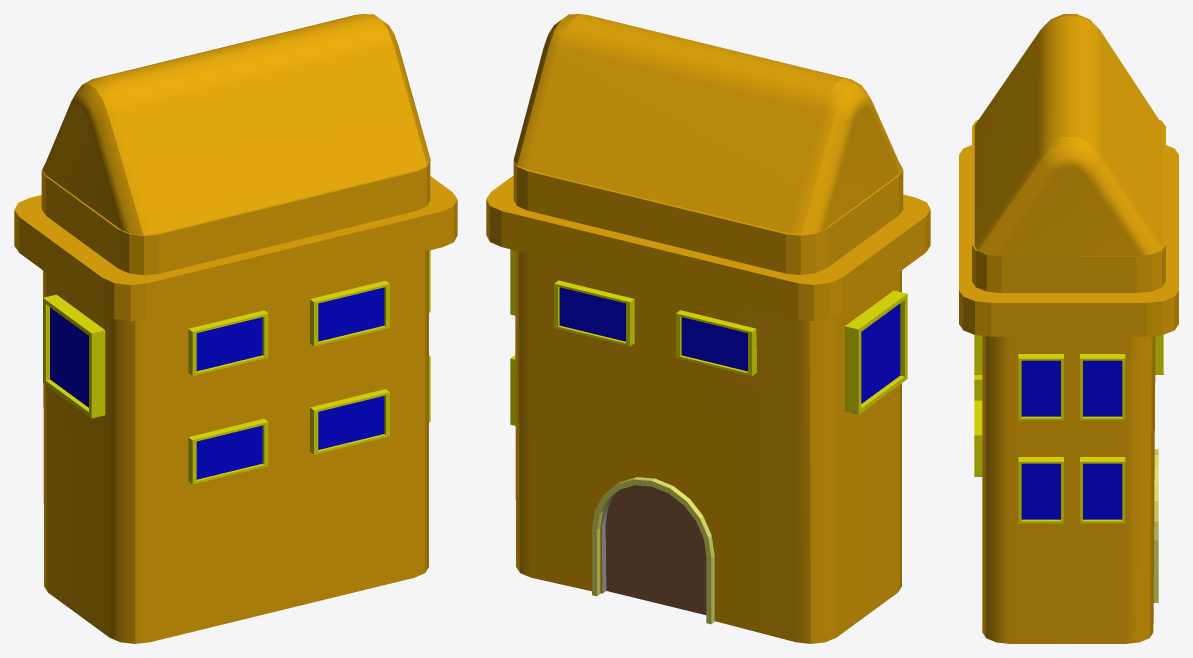
3 renders of one model, left to right at view 1: azimuth 30°, elevation 25°; view 2: azimuth 150°, elevation 25°; view 3: azimuth 270°, elevation 25°, orthographic. The views are drawn at different scales.
Visible parts, largest first — view 1: polySurface83, pCube60, polySurface94, polySurface136, polySurface134, polySurface135, polySurface133; view 2: polySurface83, pCube60, polySurface94, polySurface85, polySurface86, pCube62; view 3: polySurface83, pCube60, polySurface90, polySurface131, polySurface132, polySurface130, pCube62, polySurface135, polySurface85, polySurface133.
Part boxes in pixels (x1,y1,x2,y2): polySurface83: (14, 162, 457, 643); pCube60: (42, 14, 430, 235); polySurface94: (43, 294, 105, 418); polySurface136: (188, 418, 268, 484); polySurface134: (188, 310, 268, 375); polySurface135: (310, 389, 389, 454); polySurface133: (310, 280, 389, 346); polySurface83: (486, 161, 930, 643); pCube60: (513, 14, 901, 234); polySurface94: (845, 290, 907, 414); polySurface85: (554, 280, 634, 346); polySurface86: (676, 310, 756, 376); pCube62: (592, 477, 714, 624); polySurface83: (959, 120, 1178, 643); pCube60: (974, 14, 1162, 256); polySurface90: (1018, 354, 1063, 420); polySurface131: (1080, 457, 1125, 523); polySurface132: (1018, 457, 1063, 523); polySurface130: (1080, 354, 1125, 420); pCube62: (1153, 449, 1158, 602); polySurface135: (974, 400, 982, 476); polySurface85: (1155, 335, 1163, 374); polySurface133: (974, 335, 982, 374).
Bounding box in the file's own units: 36.43 × 52.35 × 21.07.
